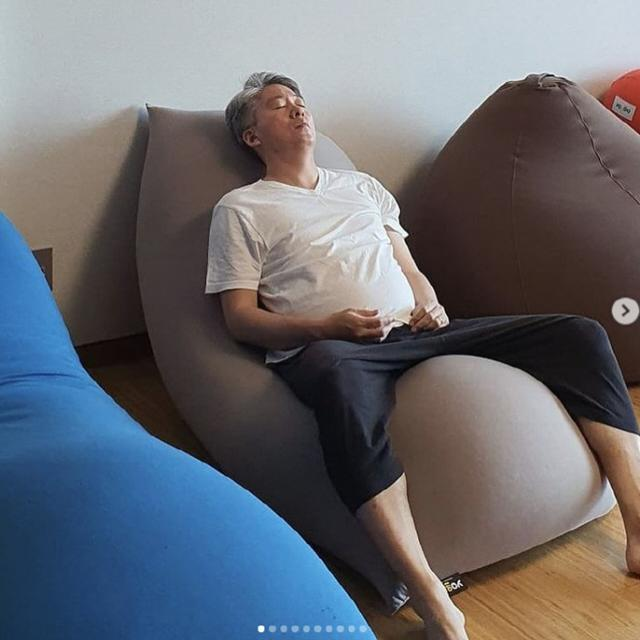people: (161, 51, 640, 640)
